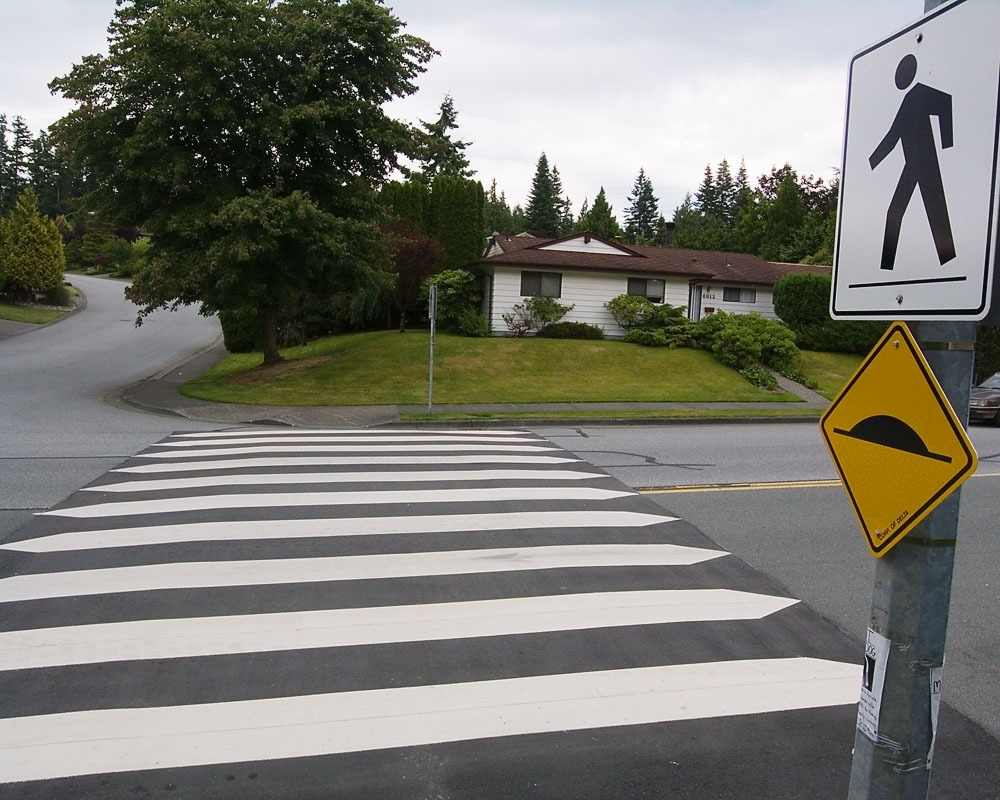crosswalk: (0, 424, 999, 799)
pole: (821, 0, 999, 799)
vegetation: (52, 0, 435, 362), (435, 329, 793, 410), (185, 330, 425, 406)
